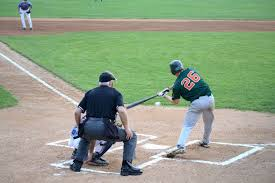baseball bat: (122, 85, 173, 112)
